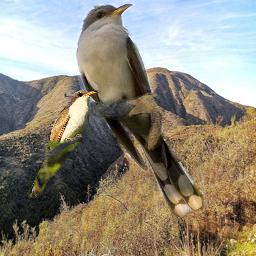Cuckoo: (76, 3, 204, 217), (26, 87, 100, 200)
